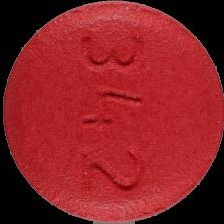43063-679: (0, 0, 224, 224)
